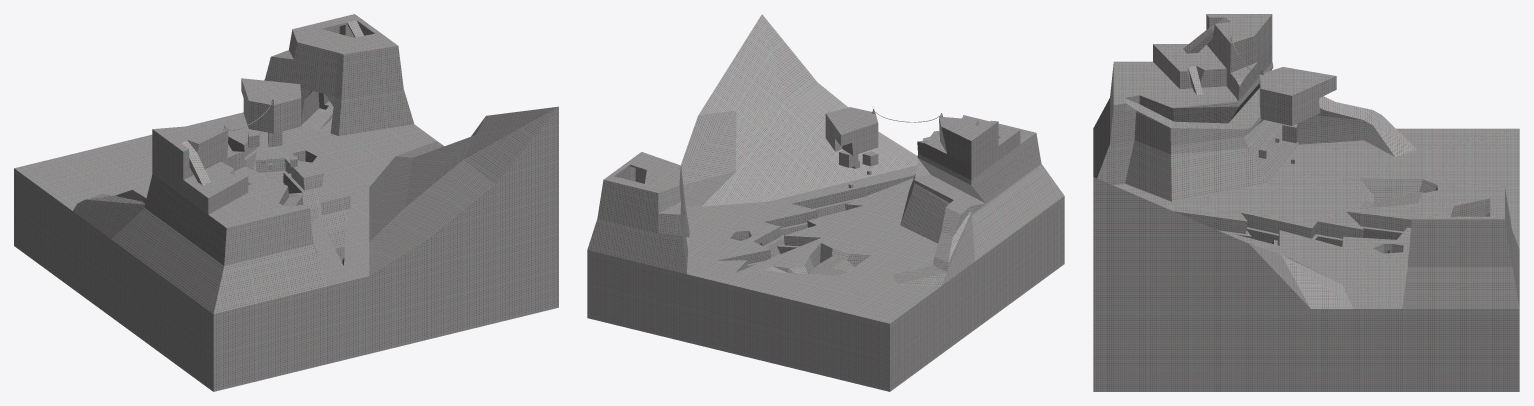
The model's file is ccccanyon.glb.
3 views of the same model, side by side, from view 1: azimuth 30°, elevation 25°; view 2: azimuth 150°, elevation 25°; view 3: azimuth 270°, elevation 25° (orthographic). The views are drawn at different scales.
Visible parts, largest first — view 1: Plane.001; view 2: Plane.001; view 3: Plane.001.
Part boxes in pixels (box(x1,y1,x2,y2)): Plane.001: box(14, 14, 558, 391); Plane.001: box(587, 14, 1064, 391); Plane.001: box(1093, 14, 1519, 391).
Bounding box in the file's own units: 201 × 111 × 200.
2 materials, 1 textured.
